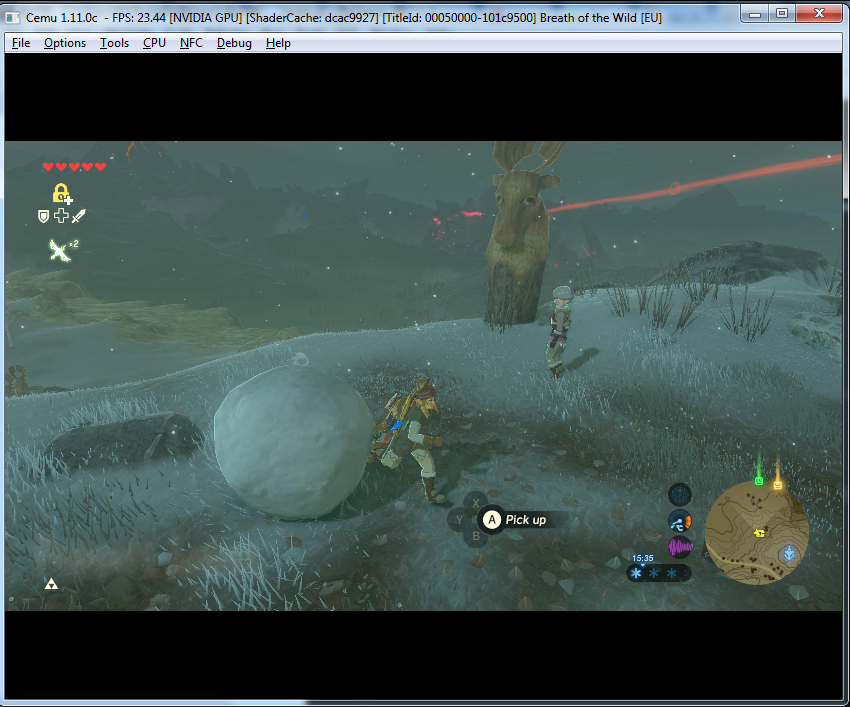dude: (537, 280, 585, 380)
link: (376, 366, 462, 516)
snowball: (210, 363, 375, 523)
totem: (477, 137, 566, 334)
